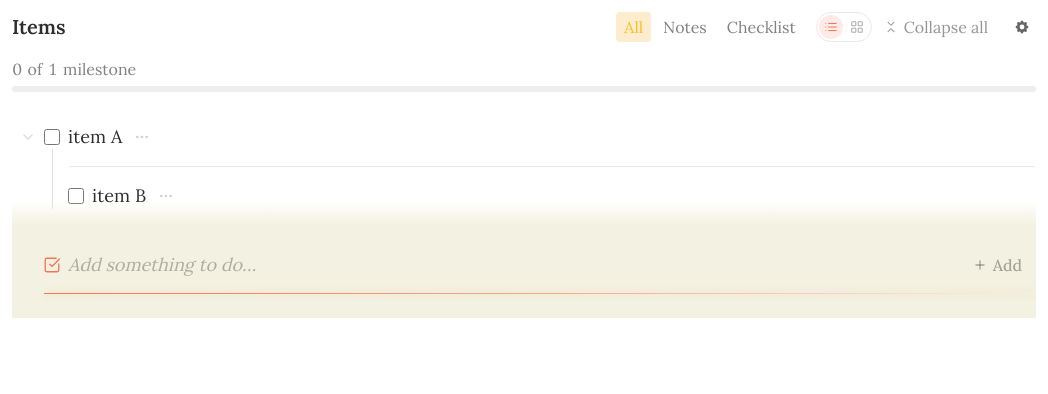
Todo add bar nesting into a collapsed parent (FS-0007 R8.9) › should open the target on a nested add when it was collapsed after nesting
Expected: the text "item A" is shown, [68,124,122,150]
Step 1. Press Tab in the field labelled "Add something to do…", box [68,249,947,281]
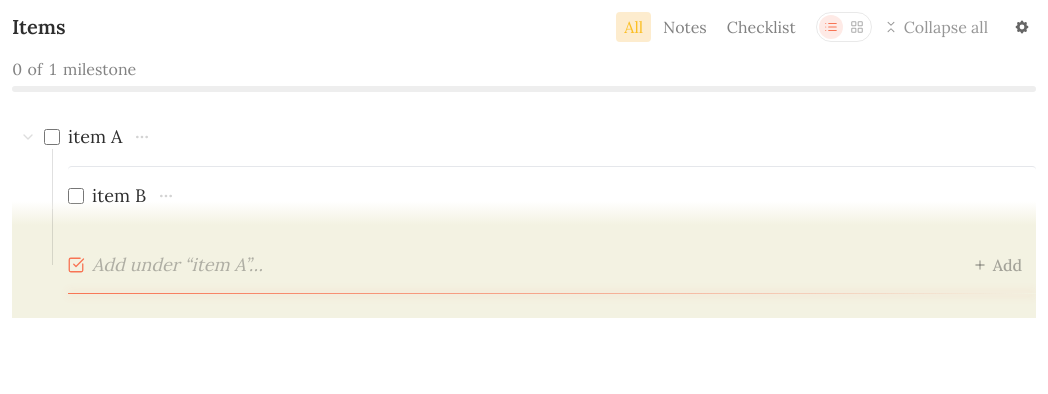
Step 2. Click the button named "Collapse item A" → (28, 137), box [12,121,44,153]
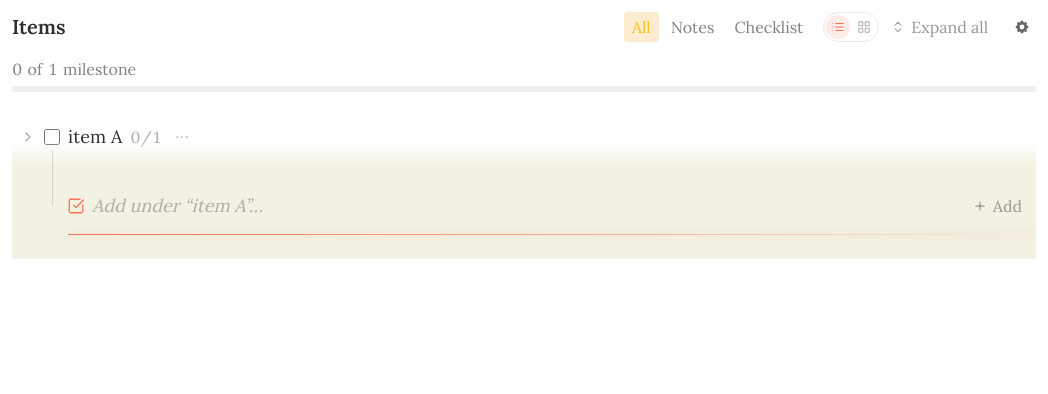
Expected: the text "item B" is gone
Step 3. Type "item E" into the field labelled "Add under “item A”…" → (519, 206), box [92,190,947,222]
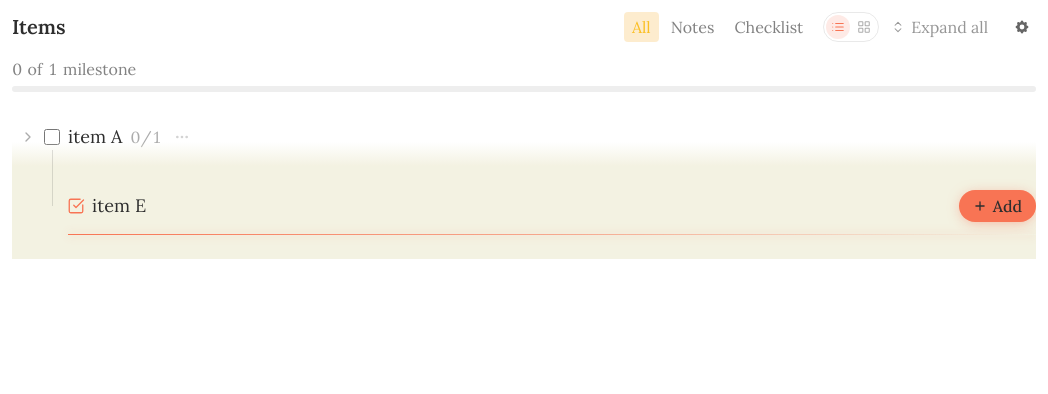
Step 4. Submit the form "Add", box [60,190,1036,222]
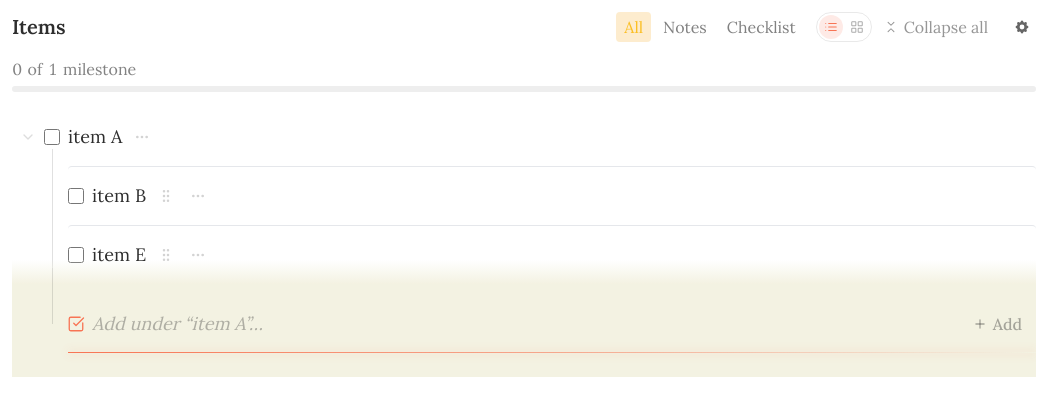
Expected: the text "item E" is shown, [92,242,146,268]
Expected: the text "item B" is shown, [92,183,146,209]
Expected: the button named "Collapse item A" is shown, [12,121,44,153]
